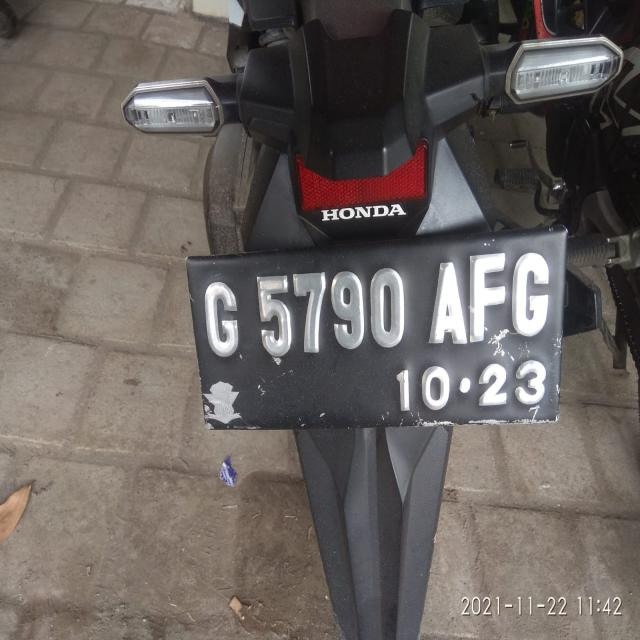plate: (192, 232, 562, 431)
